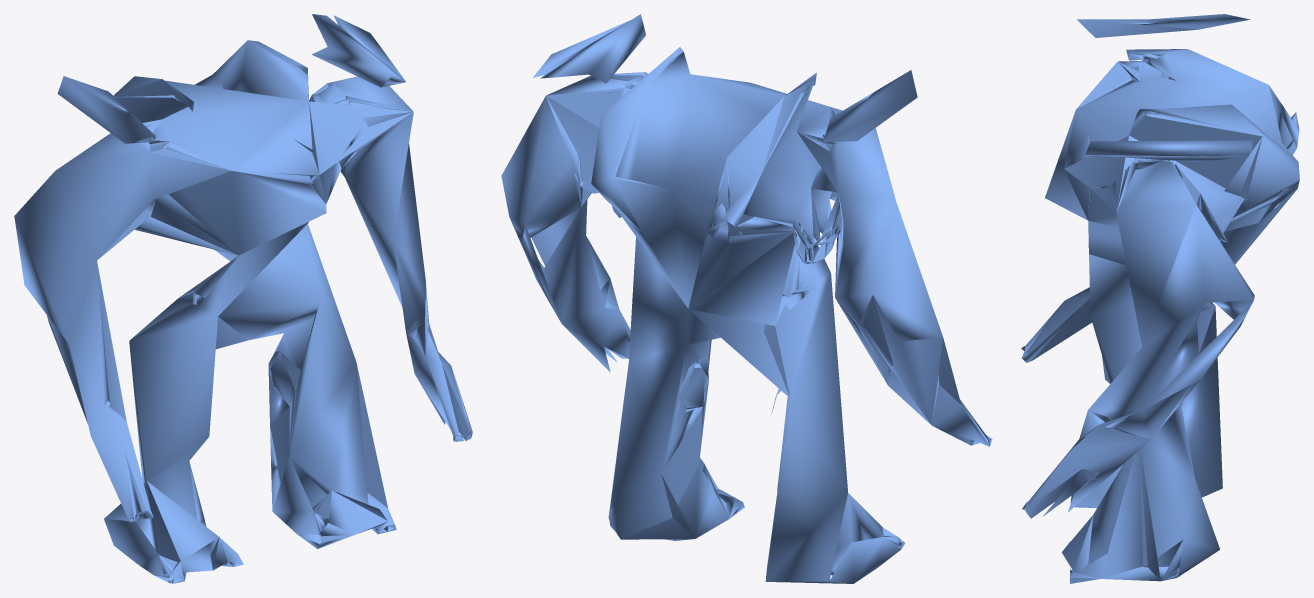
File: cbp1.glb
The picture shows the model from 3 angles, left to right: view 1: azimuth 30°, elevation 25°; view 2: azimuth 150°, elevation 25°; view 3: azimuth 270°, elevation 25°; orthographic projection. The views are drawn at different scales.
Visible parts, largest first — view 1: cbp1; view 2: cbp1; view 3: cbp1.
Part boxes in pixels (box(x1,y1,x2,y2)): cbp1: box(14, 14, 472, 583); cbp1: box(501, 14, 992, 583); cbp1: box(1021, 14, 1299, 583).
Size of the model in its own units: 0.8409 by 0.9583 by 0.5378.
